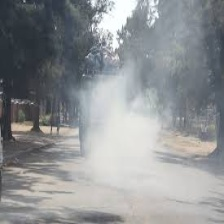smoke: (88, 86, 158, 179)
